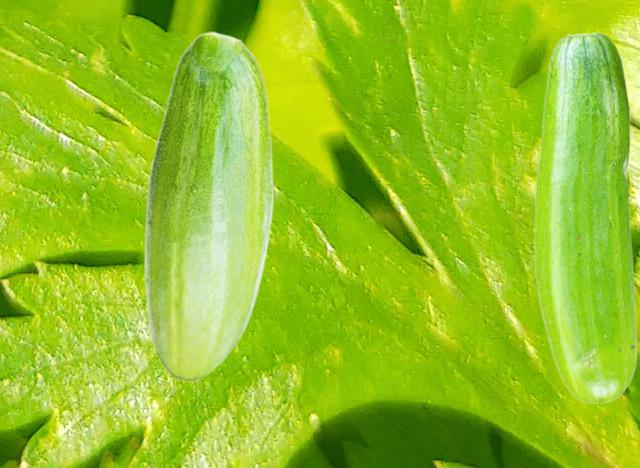cucumber: (143, 31, 273, 380), (534, 31, 636, 403)
